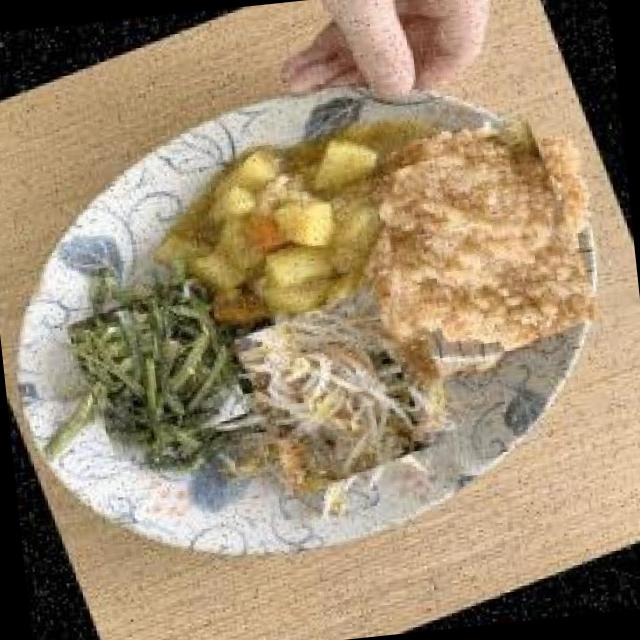curry: (162, 130, 396, 328)
fried_chicken: (357, 118, 612, 376)
mung_bean_sprouts: (230, 282, 435, 503)
water_spinach: (63, 271, 255, 463)
